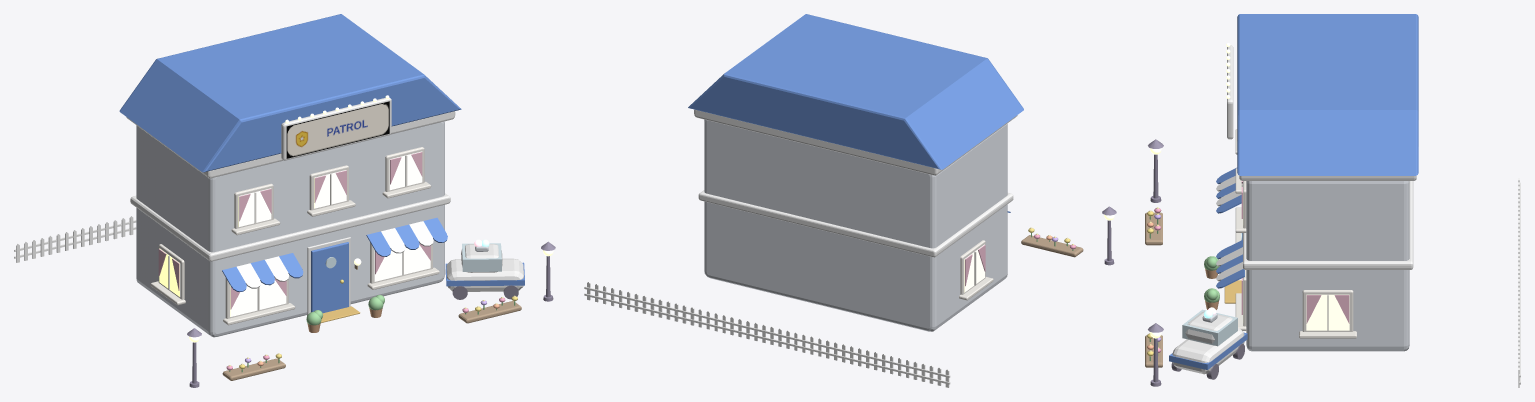
Rendered from building_police_L08.glb.
3 renders of one model, left to right at view 1: azimuth 30°, elevation 25°; view 2: azimuth 150°, elevation 25°; view 3: azimuth 270°, elevation 25°, orthographic. The views are drawn at different scales.
Visible parts, largest first — view 1: Body, police_L8; view 2: Body, police_L8; view 3: Body, police_L8.
Part boxes in pixels (bbox=[...]): Body: bbox=[119, 14, 524, 337]; police_L8: bbox=[14, 216, 555, 387]; Body: bbox=[688, 14, 1023, 331]; police_L8: bbox=[584, 206, 1116, 387]; Body: bbox=[1169, 14, 1418, 379]; police_L8: bbox=[1145, 139, 1520, 387].
Size of the model in its own units: 25.2 by 14.11 by 20.75.
27 materials, 1 textured.
